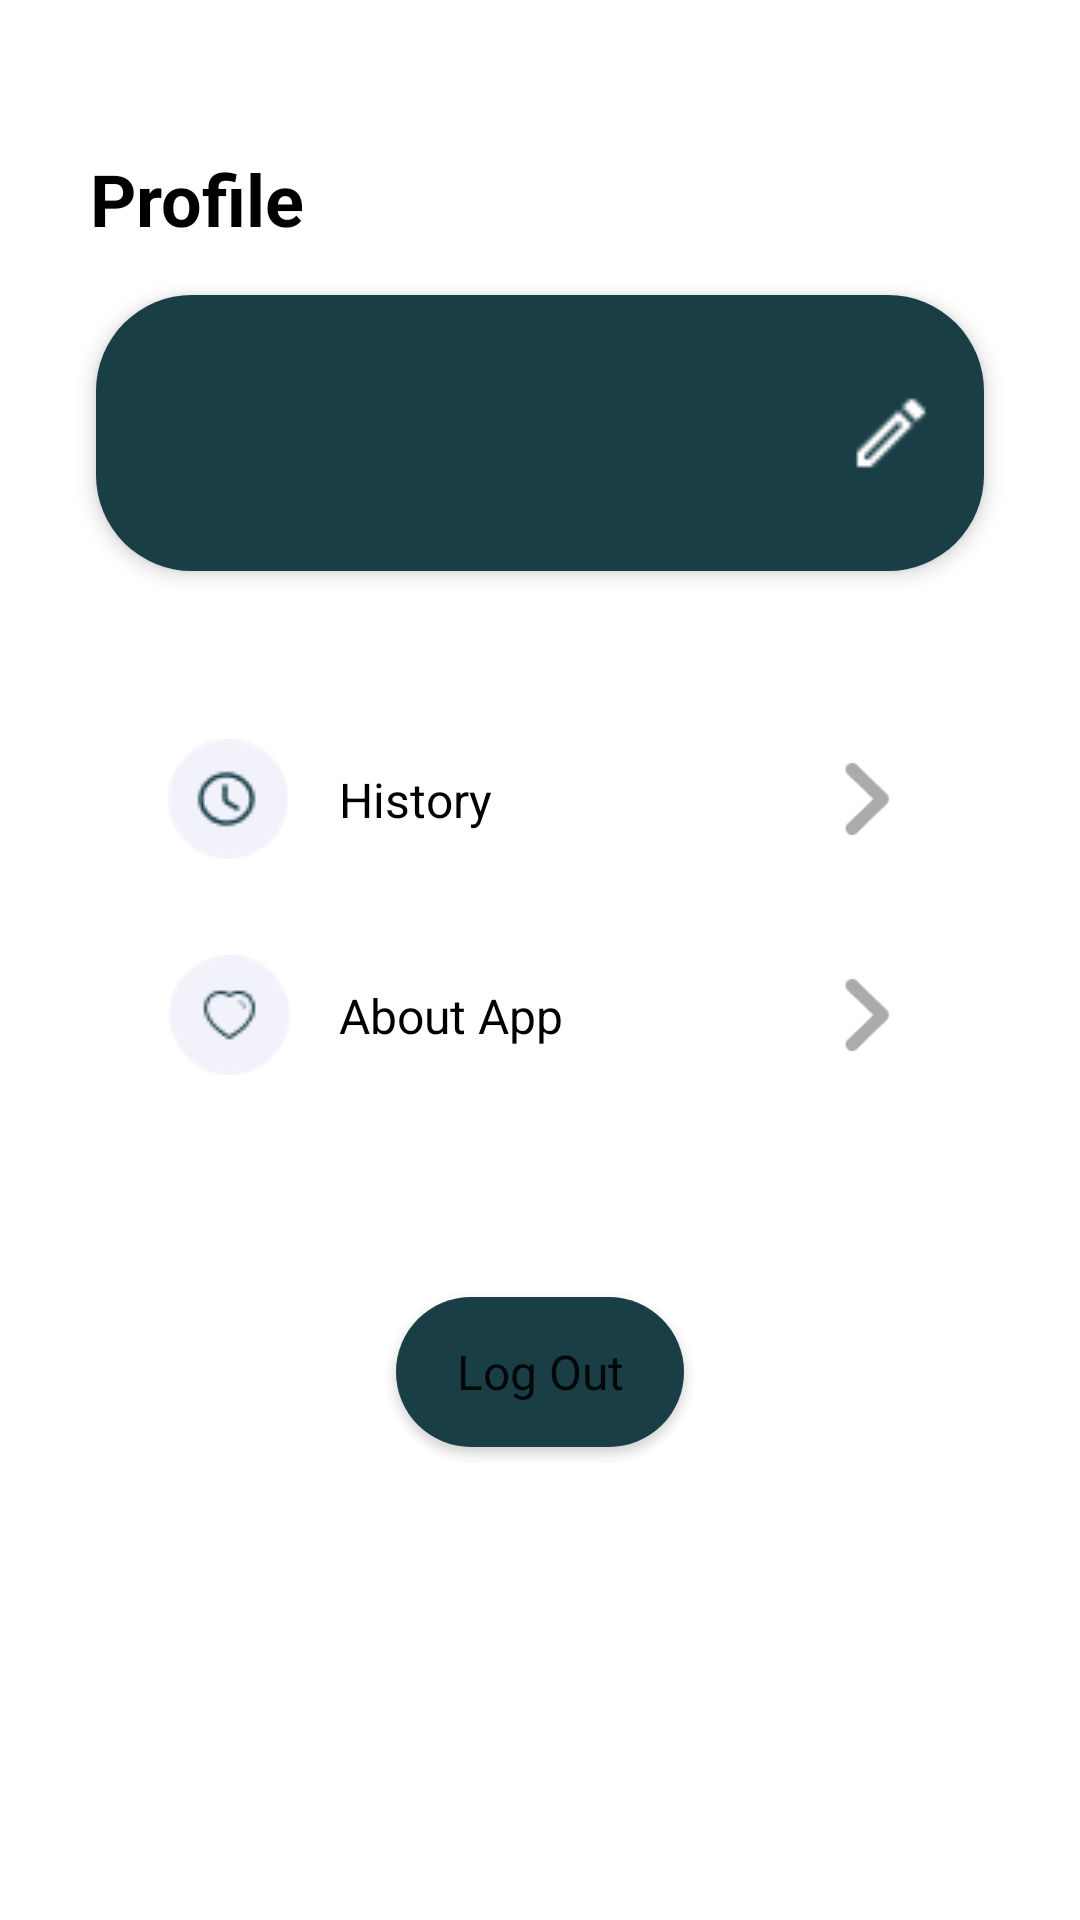

Where icons sit on this 1080px x 1920px app screen, as (x1, y1, x2, y2):
arrow: (845, 763, 889, 835), (845, 979, 889, 1051)
edit: (856, 398, 926, 468)
